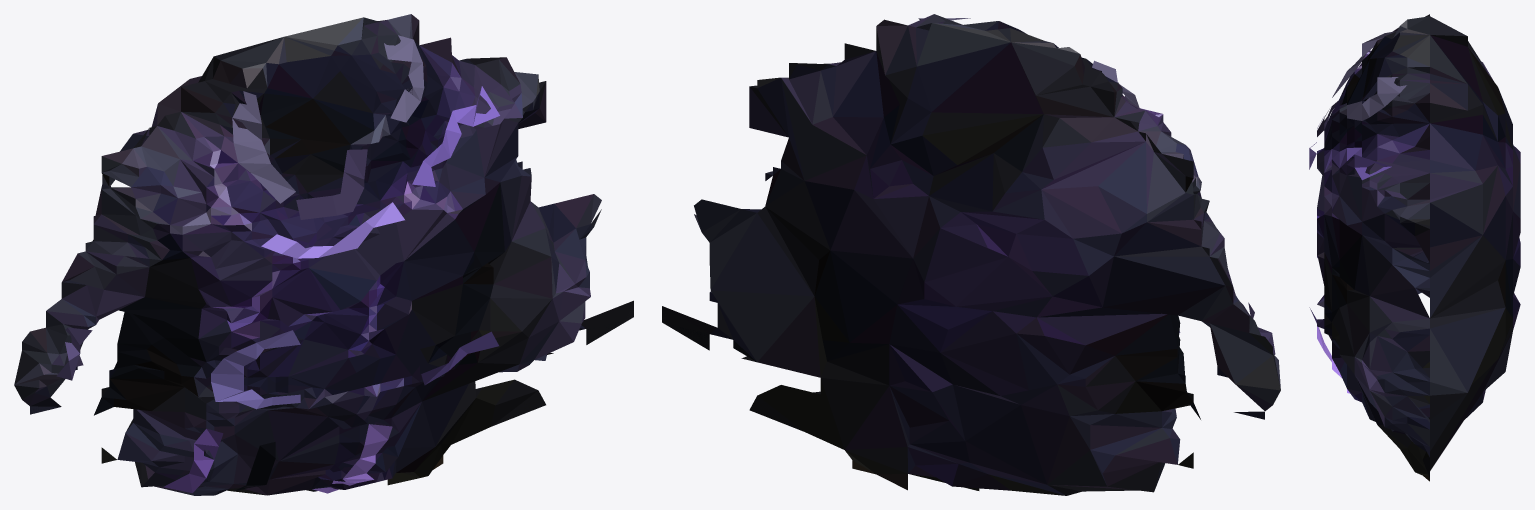
Rendered from B11_2_voidwoven_robe_top.obj.
3 views of the same model, side by side, from view 1: azimuth 30°, elevation 25°; view 2: azimuth 150°, elevation 25°; view 3: azimuth 270°, elevation 25° (orthographic). The views are drawn at different scales.
Parts seen in each view (by area): view 1: B11_2_voidwoven_robe_top; view 2: B11_2_voidwoven_robe_top; view 3: B11_2_voidwoven_robe_top.
Part boxes in pixels (bbox=[...]): B11_2_voidwoven_robe_top: bbox=[14, 14, 633, 495]; B11_2_voidwoven_robe_top: bbox=[662, 14, 1280, 495]; B11_2_voidwoven_robe_top: bbox=[1309, 14, 1520, 481].
Size of the model in its own units: 78 by 57 by 28.
